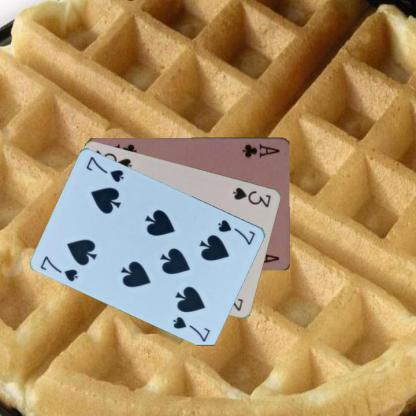3s: (230, 184, 273, 209)
7s: (38, 253, 80, 283), (215, 217, 257, 246)
Ac: (240, 140, 282, 158)
